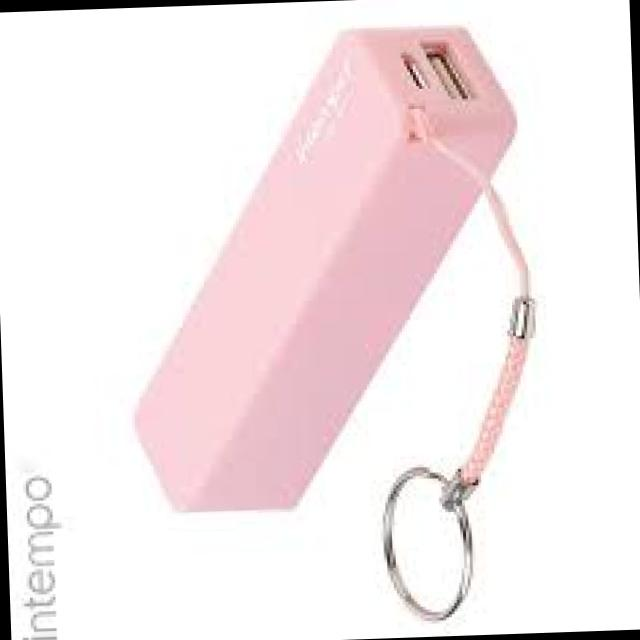power_bank: (115, 17, 530, 517)
